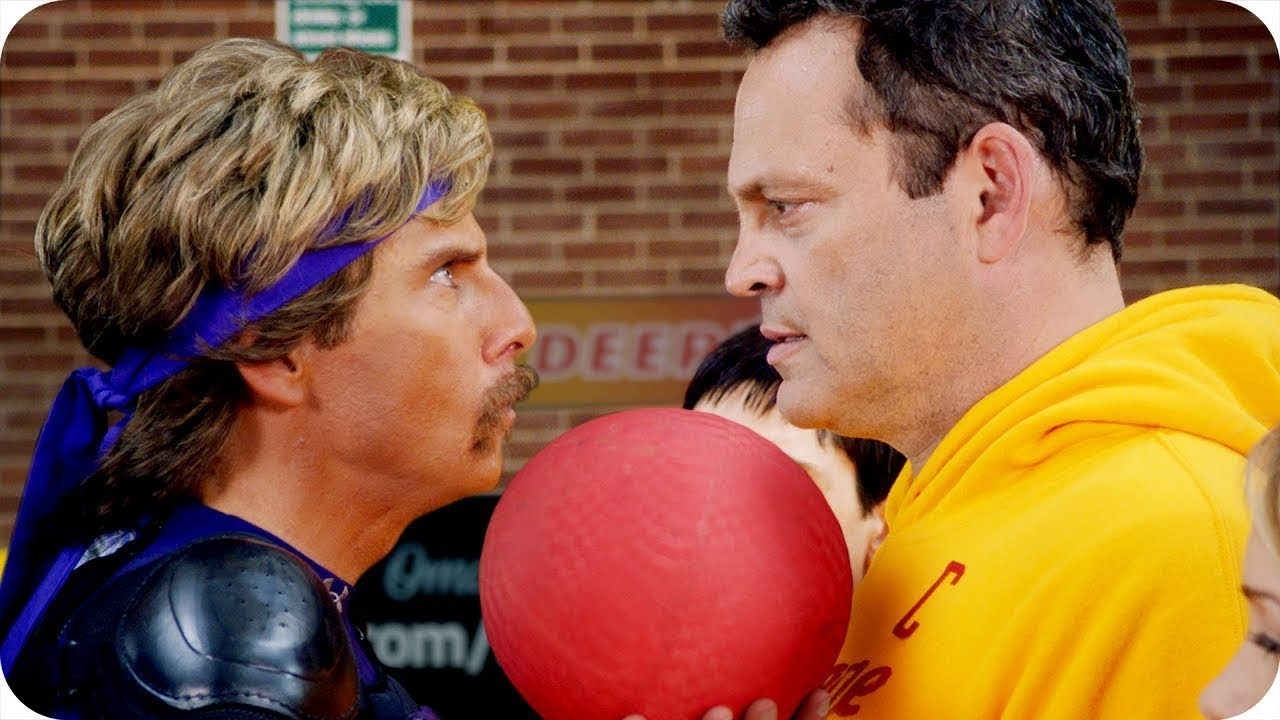red ball: (474, 406, 855, 720)
